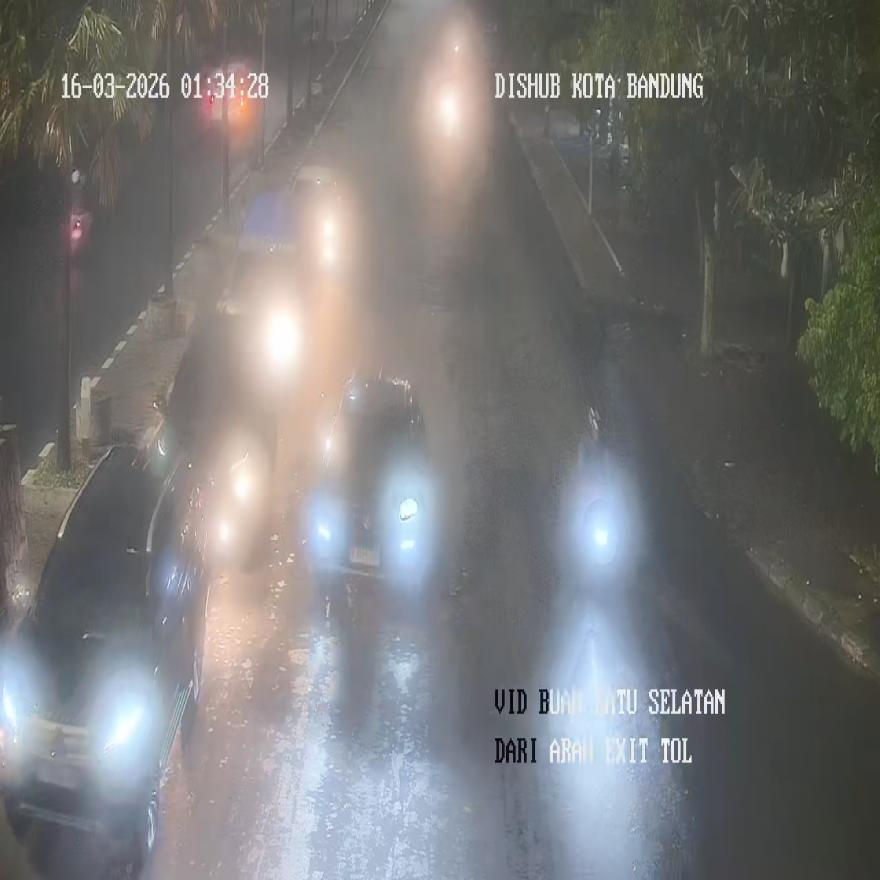Mobil: (0, 445, 210, 870), (304, 370, 437, 606), (156, 315, 276, 568), (222, 185, 320, 384), (293, 165, 346, 271)
Motor: (569, 406, 631, 581), (575, 627, 615, 789), (439, 90, 459, 134), (454, 44, 459, 51)
